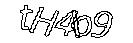4: (54, 10, 77, 35)
9: (91, 11, 112, 37)
H: (29, 7, 58, 36)
I: (72, 10, 79, 37)
o: (73, 15, 91, 36)
t: (20, 5, 32, 29)
